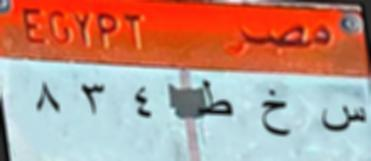3: (77, 78, 112, 121)
4: (122, 81, 162, 128)
8: (28, 76, 63, 123)
Taa: (192, 78, 239, 122)
khaa: (256, 83, 296, 143)
seen: (316, 98, 370, 140)
